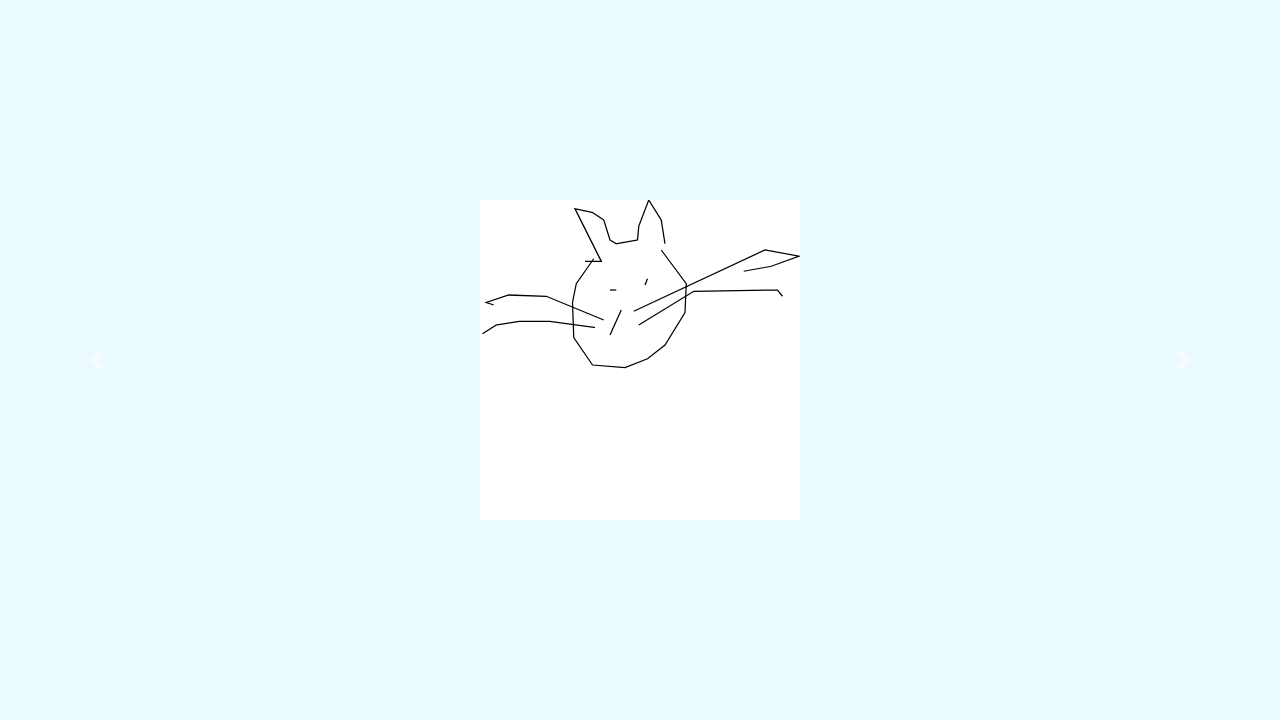cat: (472, 194, 801, 376)
